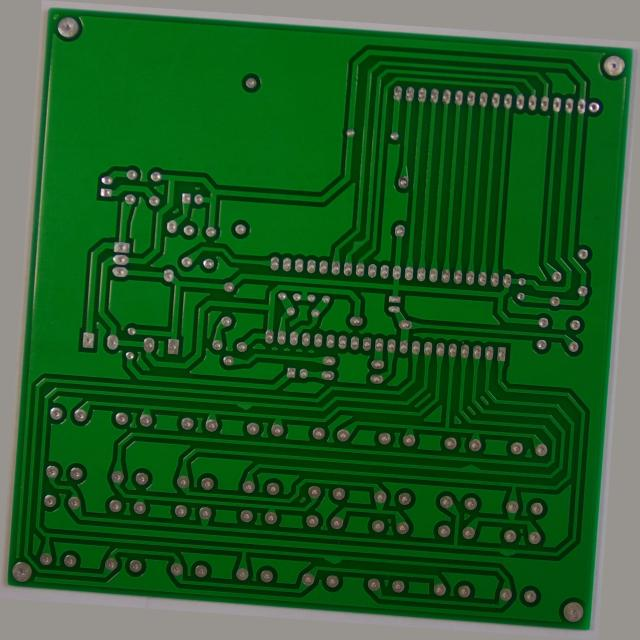spur: (233, 409, 260, 424), (337, 565, 364, 580), (478, 459, 503, 475), (526, 546, 547, 560), (347, 228, 362, 246)
